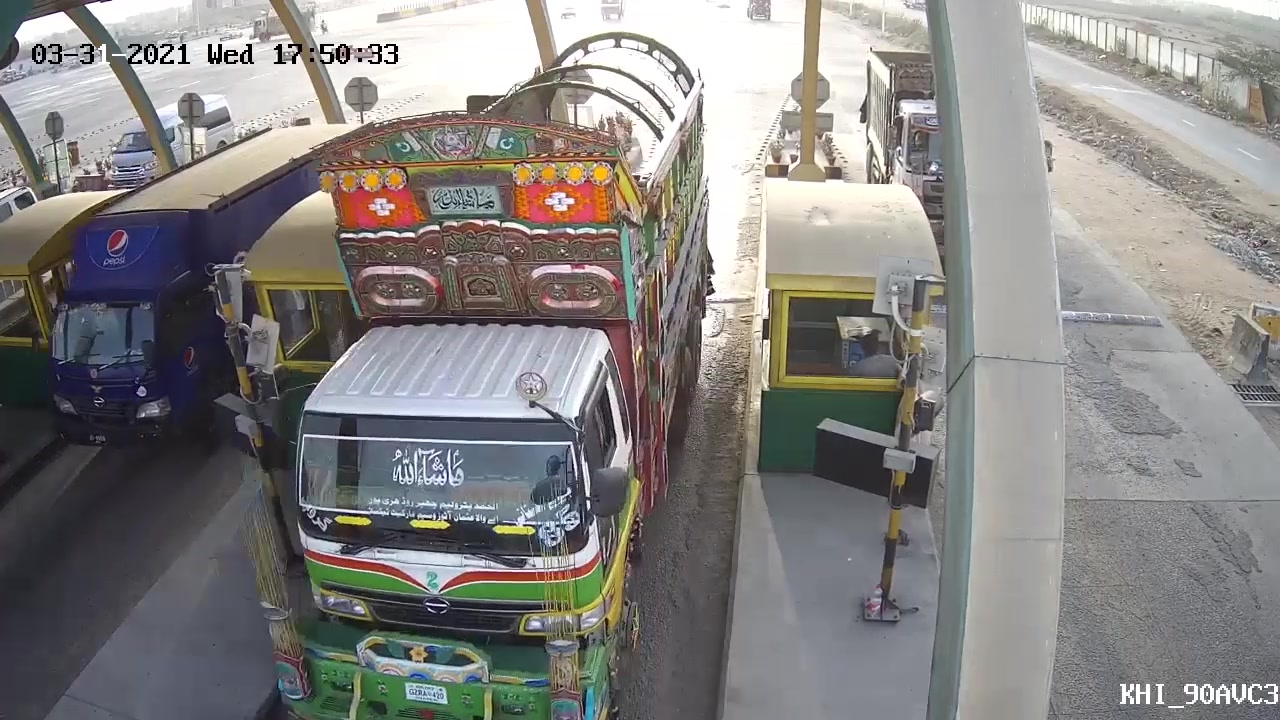F5: (204, 113, 695, 720)
